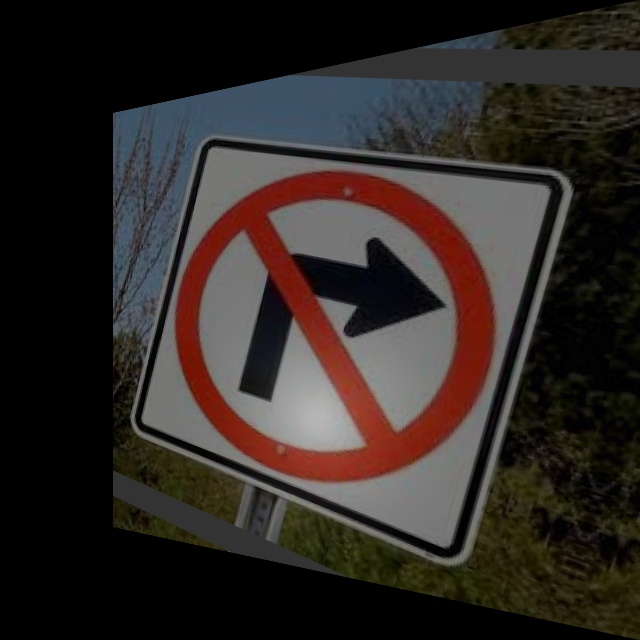Right_Turn_Prohibited: (149, 80, 552, 555)
